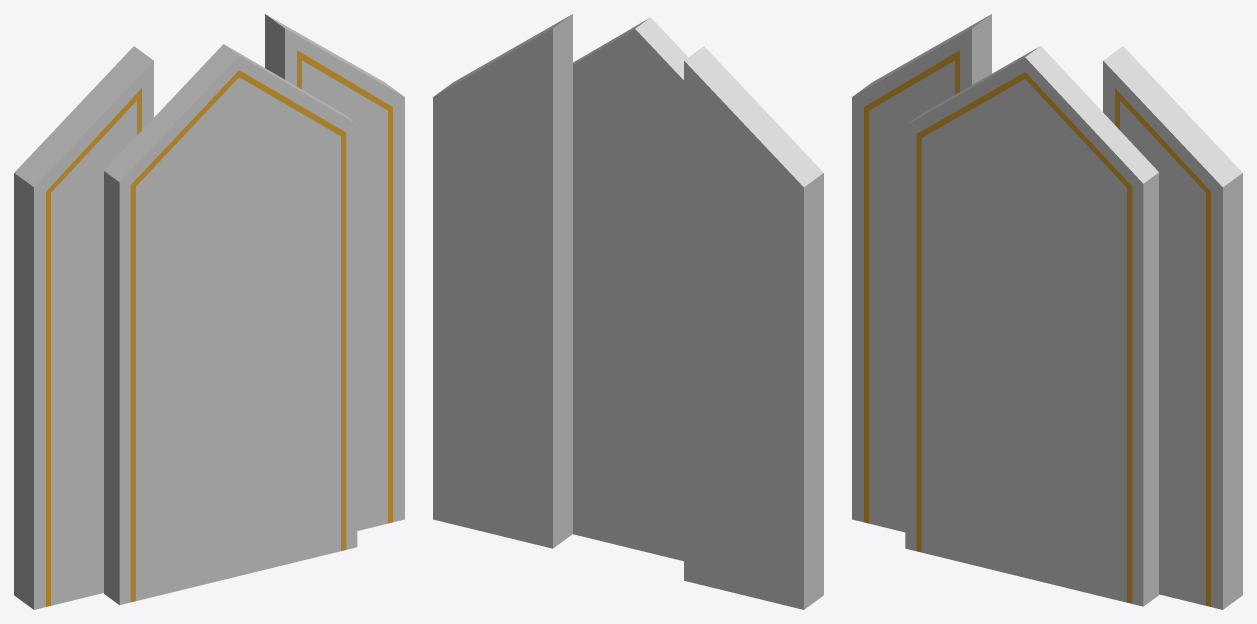
The model's file is TrophyBackground.fbx.
The picture shows the model from 3 angles, left to right: view 1: azimuth 30°, elevation 25°; view 2: azimuth 150°, elevation 25°; view 3: azimuth 330°, elevation 25°; orthographic projection.
Parts seen in each view (by area): view 1: Plane; view 2: Plane; view 3: Plane.
Part boxes in pixels (<box>): Plane: <box>14,14,404,609</box>; Plane: <box>433,14,823,609</box>; Plane: <box>852,14,1242,609</box>.
Size of the model in its own units: 120 by 162 by 20.24.
